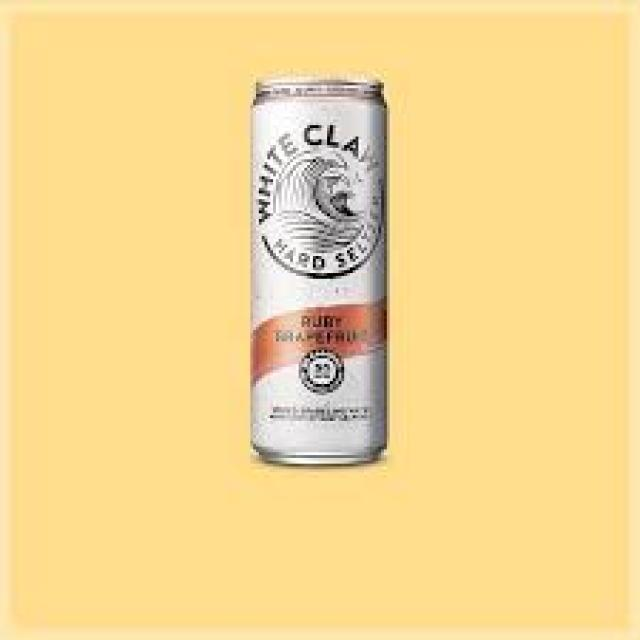Cans: (236, 65, 407, 472)
